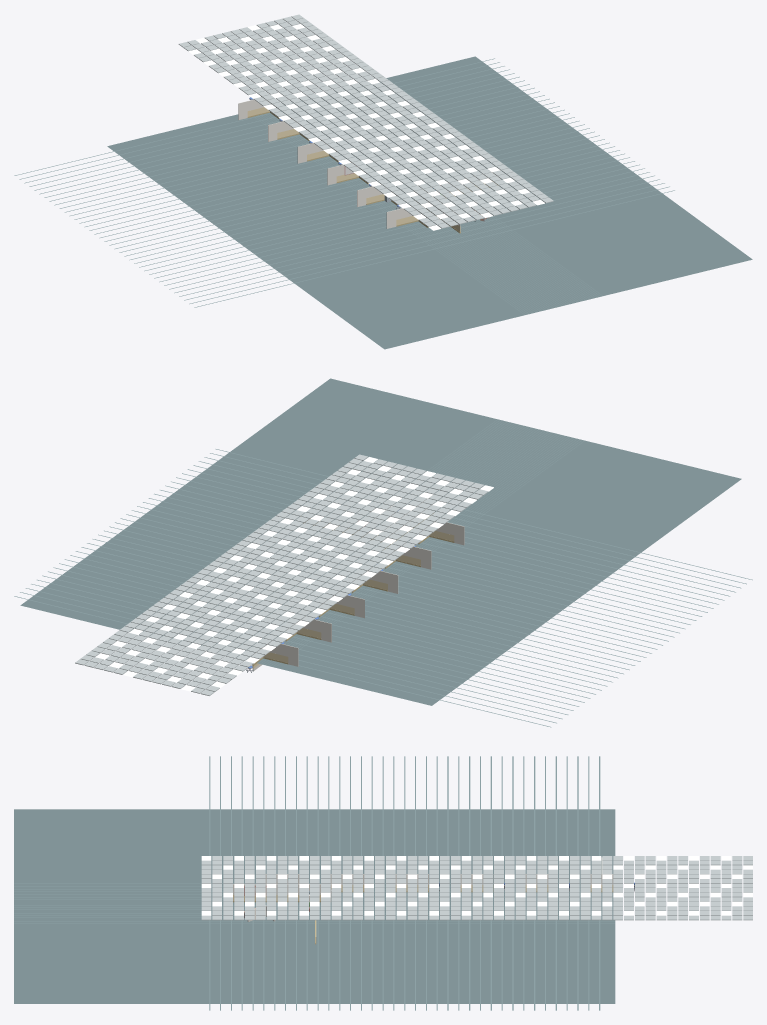
3 renders of one model, top to bottom at view 1: azimuth 30°, elevation 25°; view 2: azimuth 150°, elevation 25°; view 3: azimuth 270°, elevation 25°, orthographic. The views are drawn at different scales.
Visible parts, largest first — view 1: Plane, placas_techo-placas, placas_techo-placa luz; view 2: Plane, placas_techo-placas, placas_techo-placa luz; view 3: Plane, placas_techo-placas, placas_techo-placa luz, Plane.1 35, Plane.1 33.
Part boxes in pixels (<box>): Plane: <box>107,56,752,349</box>; placas_techo-placas: <box>178,14,553,228</box>; placas_techo-placa luz: <box>188,24,544,230</box>; Plane: <box>20,378,741,705</box>; placas_techo-placas: <box>75,454,488,695</box>; placas_techo-placa luz: <box>96,457,493,691</box>; Plane: <box>14,809,615,1003</box>; placas_techo-placas: <box>201,856,752,920</box>; placas_techo-placa luz: <box>201,856,752,915</box>; Plane.1 35: <box>14,923,614,923</box>; Plane.1 33: <box>14,921,614,921</box>.
Size of what is drawn, in the model's own units: 111 by 6.23 by 136.
